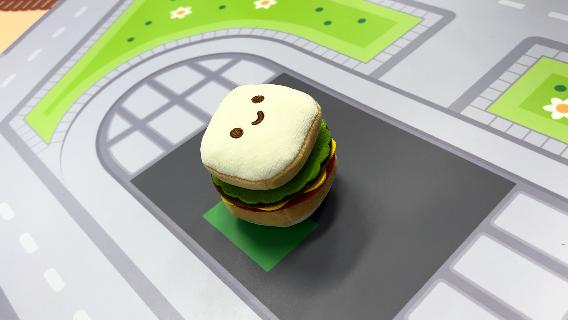sandwich: (198, 82, 340, 228)
